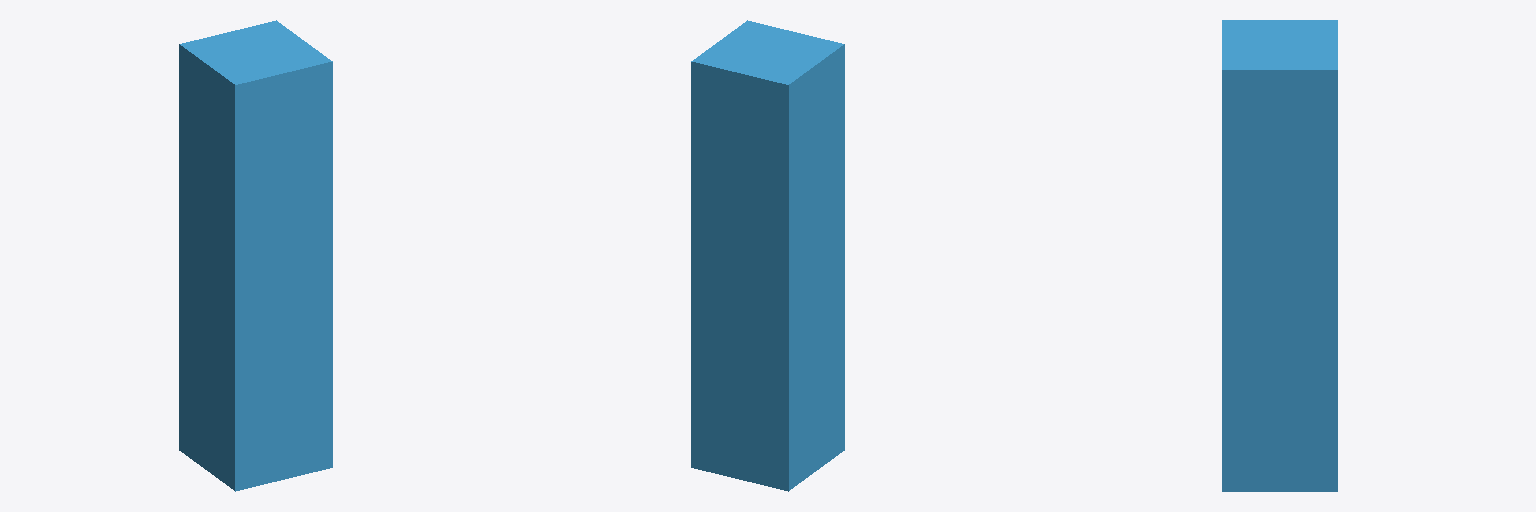
The robot description file, URDF, robot "doctor_visual_only":
<?xml version="1.0"?>
<!-- A005 positive: l1 renders (a visual box) but carries NO <collision>, so it
     is invisible to collision checking. Everything else is healthy — the A005
     Warn must be the report's ONLY finding. -->
<robot name="doctor_visual_only">
  <link name="base">
    <inertial><origin xyz="0 0 0"/><mass value="1.0"/>
      <inertia ixx="0.01" ixy="0" ixz="0" iyy="0.01" iyz="0" izz="0.01"/></inertial>
  </link>
  <link name="l1">
    <inertial><origin xyz="0 0 0"/><mass value="0.5"/>
      <inertia ixx="0.005" ixy="0" ixz="0" iyy="0.005" iyz="0" izz="0.005"/></inertial>
    <visual><origin xyz="0 0 0.1"/><geometry><box size="0.05 0.05 0.2"/></geometry></visual>
  </link>

  <joint name="j1" type="revolute">
    <parent link="base"/><child link="l1"/><origin xyz="0 0 0.1"/><axis xyz="0 0 1"/>
    <limit lower="-1" upper="1" effort="1" velocity="1"/>
  </joint>
</robot>

--- Facts derived from the render (not from the file) ---
Views: 3 orthographic renders of the robot side by side, from view 1: azimuth 30°, elevation 25°; view 2: azimuth 150°, elevation 25°; view 3: azimuth 270°, elevation 25°.
Robot: doctor_visual_only — 2 links, 1 joints (1 revolute); root link base; default pose: every joint at zero.
Links seen in each view (by area): view 1: l1; view 2: l1; view 3: l1.
Link boxes in pixels (x1,y1,x2,y2): l1: [179, 20, 332, 491]; l1: [691, 20, 844, 491]; l1: [1222, 20, 1337, 491].
Bounding box of the posed robot: 0.05 × 0.05 × 0.2 m (x, y, z).
Geometry: primitives only (box / cylinder / sphere), no mesh files.
